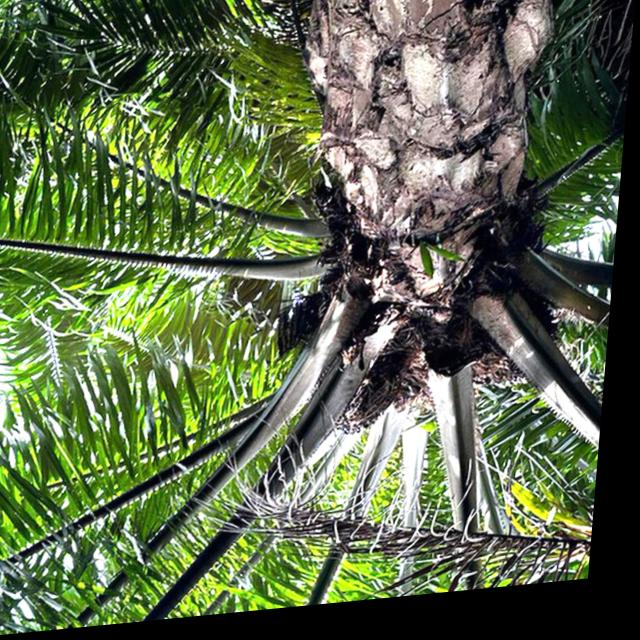almost: (334, 371, 411, 449)
